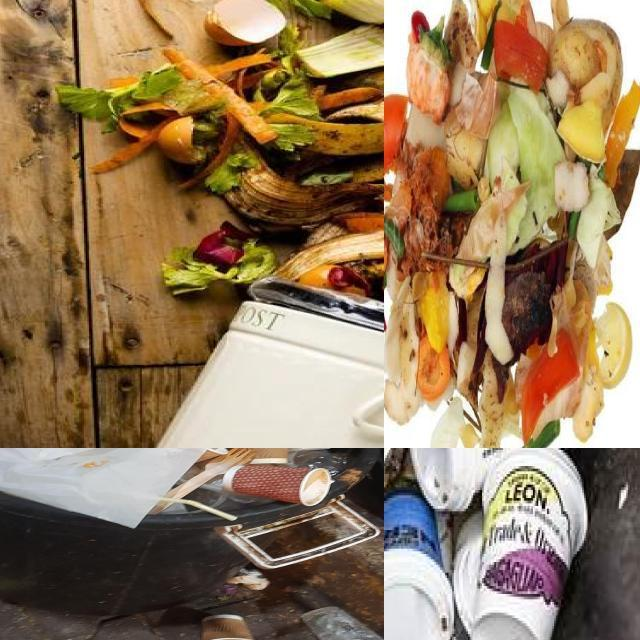Disposable: (186, 480, 275, 512), (289, 450, 346, 476), (163, 504, 197, 514)
Garbage: (384, 0, 640, 448), (56, 0, 384, 302), (384, 448, 601, 640), (0, 448, 358, 526)
Plastic_Straw: (160, 497, 237, 521)
